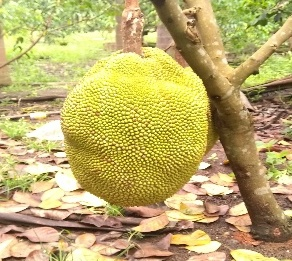Mit: (61, 48, 209, 208)
